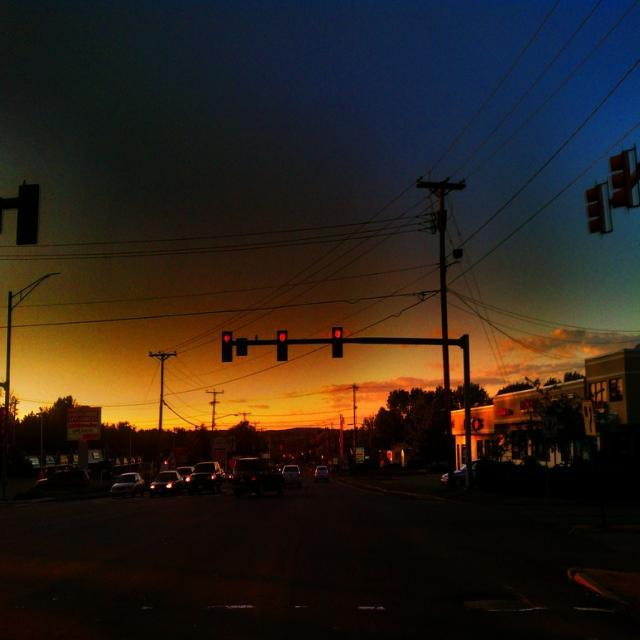traffic light: (221, 330, 235, 363), (275, 330, 289, 362), (332, 325, 344, 357)
